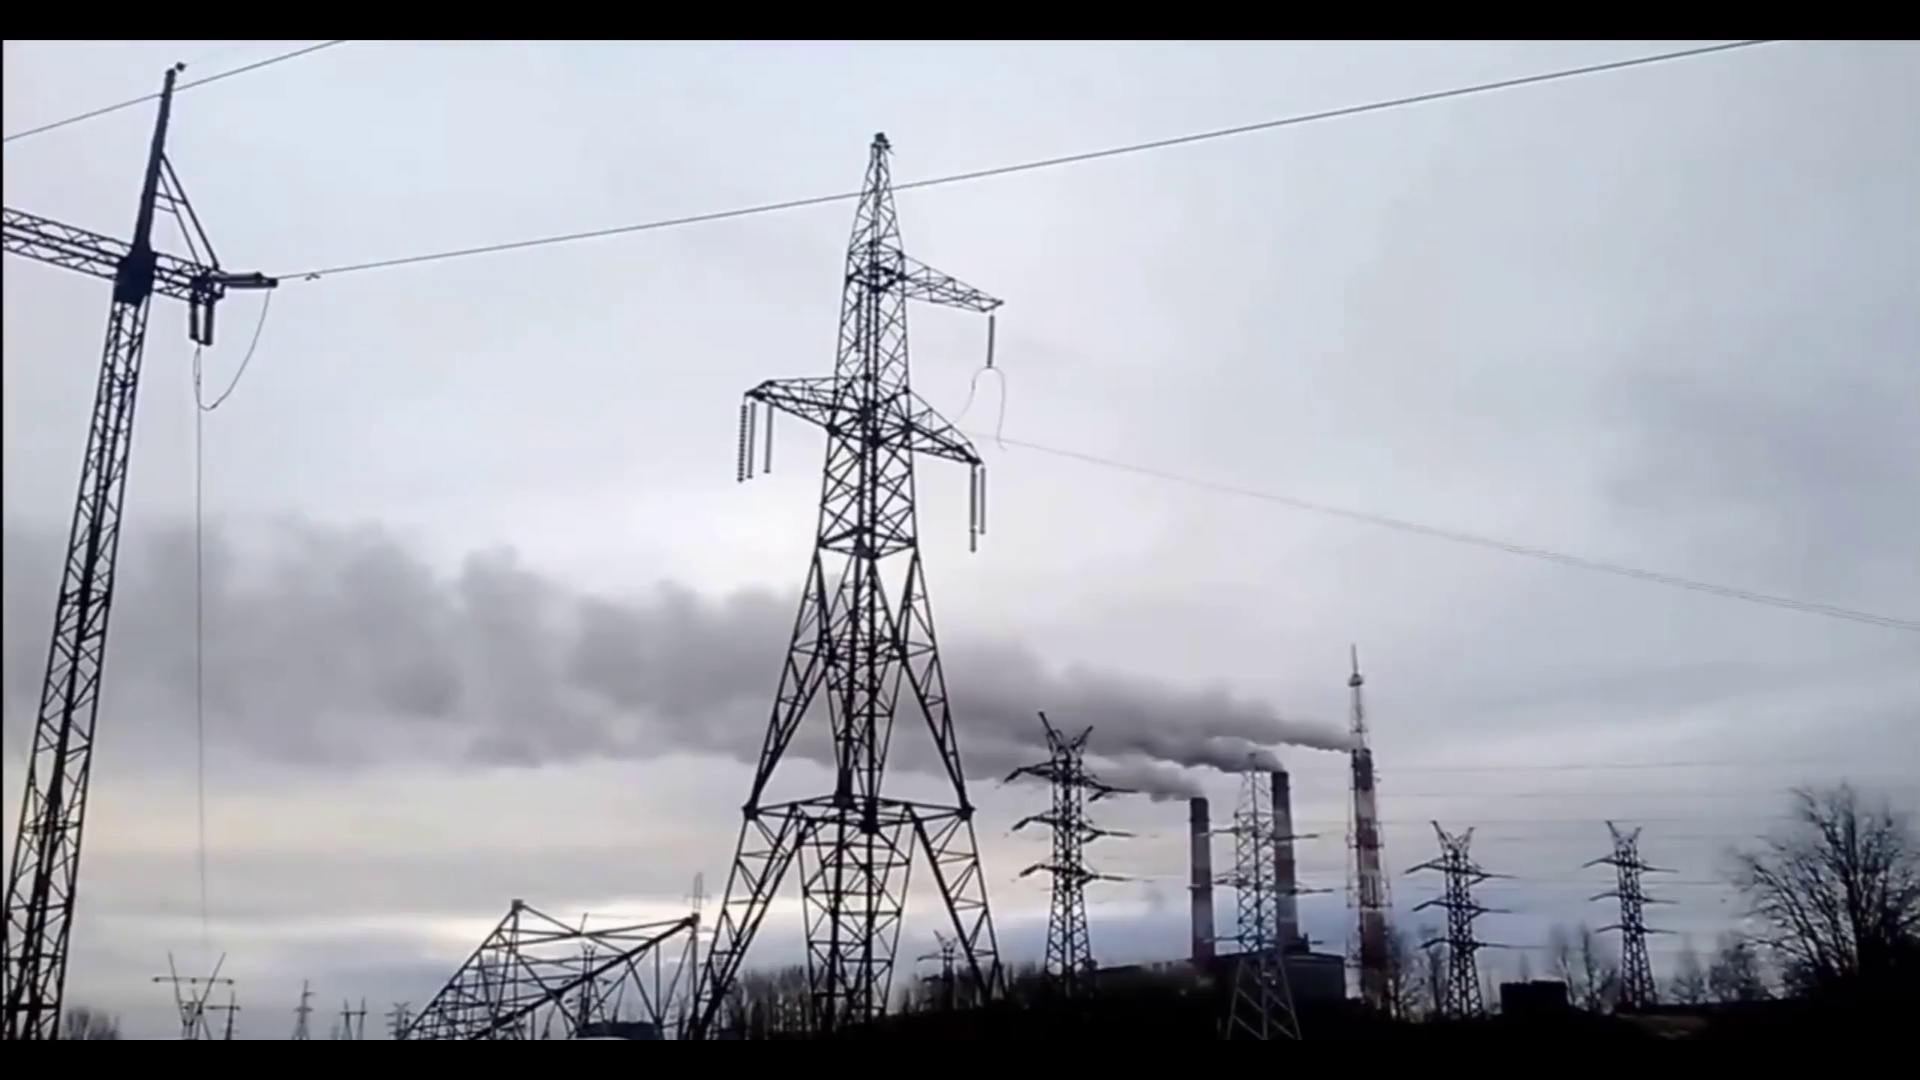tower_up: (719, 123, 1013, 1029)
